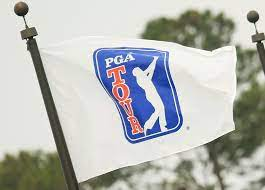Flag: (46, 36, 238, 175)
